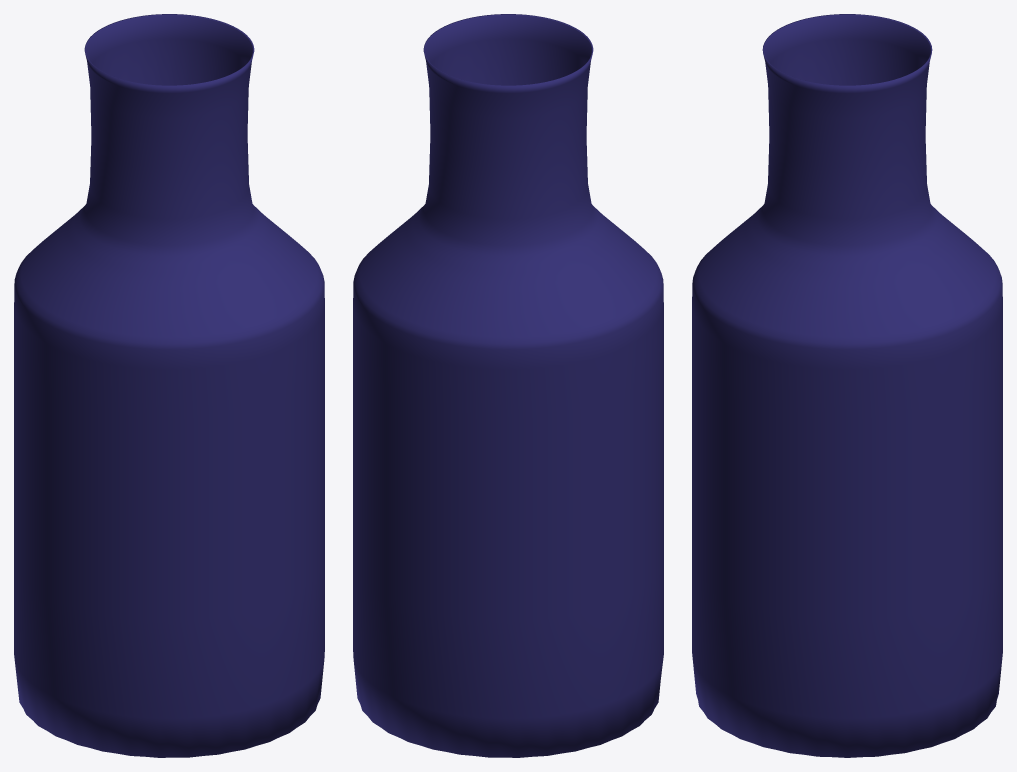
Rendered from bluebottle.glb.
The picture shows the model from 3 angles, left to right: view 1: azimuth 30°, elevation 25°; view 2: azimuth 150°, elevation 25°; view 3: azimuth 270°, elevation 25°; orthographic projection.
Parts seen in each view (by area): view 1: Cylinder.001; view 2: Cylinder.001; view 3: Cylinder.001.
Part boxes in pixels (x1,y1,x2,y2): Cylinder.001: (14,14,324,757); Cylinder.001: (353,14,663,757); Cylinder.001: (692,14,1002,757).
Size of the model in its own units: 0.3918 by 0.904 by 0.3918.
